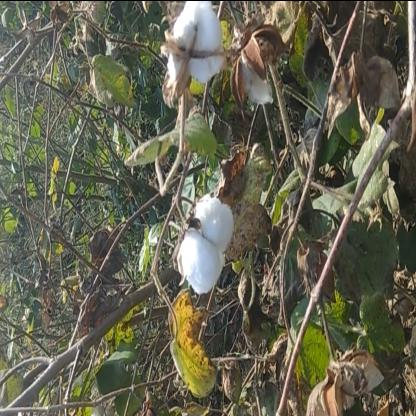cotton_ready: (172, 174, 240, 308), (158, 5, 235, 86)
